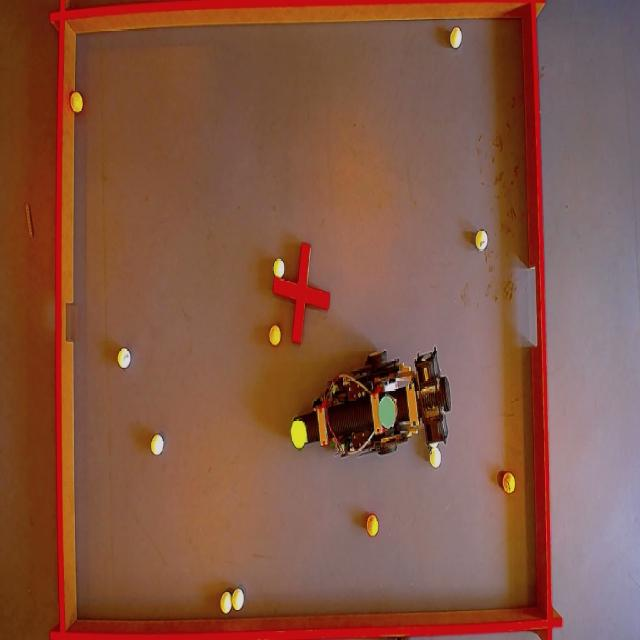orange: (366, 514, 382, 536), (502, 474, 518, 493), (69, 91, 83, 112), (267, 326, 281, 346)
robot: (290, 353, 460, 464)
robot-front: (290, 418, 310, 449)
robot-rear: (376, 392, 397, 430)
white: (449, 26, 464, 47), (152, 434, 166, 456), (117, 346, 131, 368), (231, 588, 243, 610), (475, 230, 488, 250), (273, 257, 285, 278), (430, 448, 443, 467), (221, 593, 233, 613)
